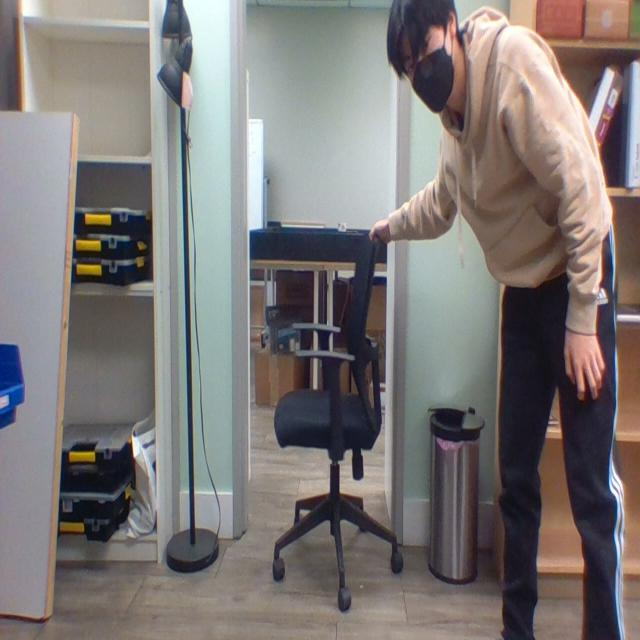black-chair: (262, 220, 404, 614)
